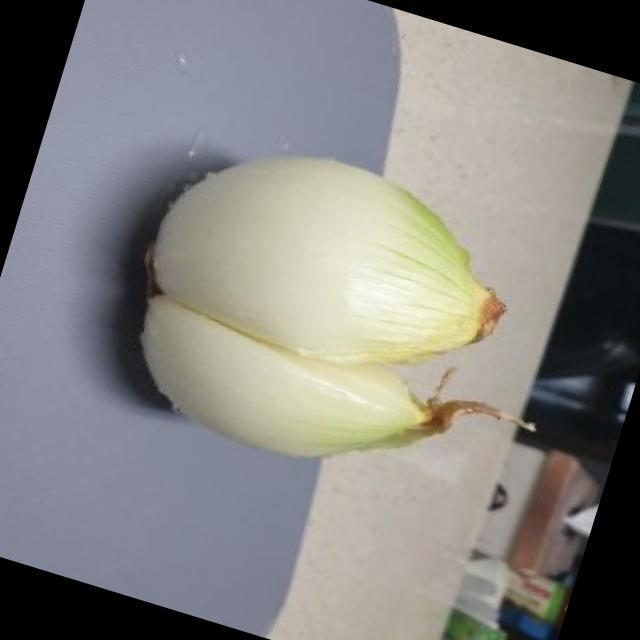Onion: (144, 160, 501, 458)
